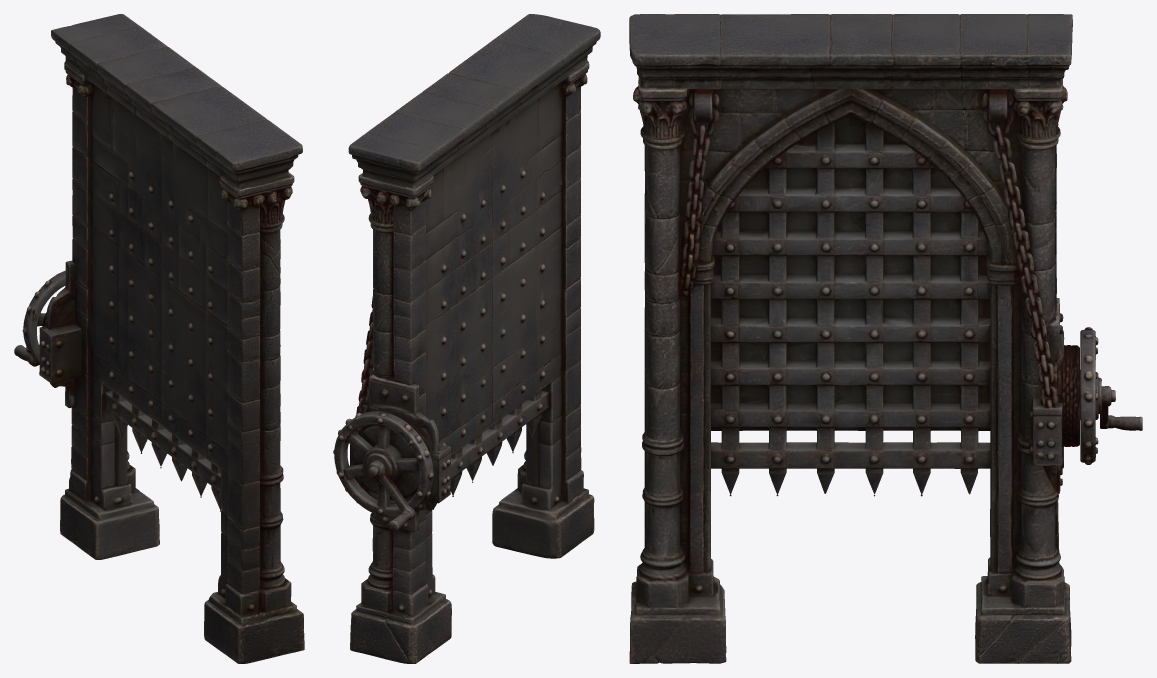
Rendered from raw_portcullis.glb.
3 renders of one model, left to right at view 1: azimuth 30°, elevation 25°; view 2: azimuth 150°, elevation 25°; view 3: azimuth 270°, elevation 25°, orthographic. The views are drawn at different scales.
Parts seen in each view (by area): view 1: portcullis; view 2: portcullis; view 3: portcullis.
Part boxes in pixels (bbox=[...]): portcullis: bbox=[14, 14, 304, 663]; portcullis: bbox=[333, 14, 600, 663]; portcullis: bbox=[629, 14, 1142, 663].
Bounding box in the file's own units: 0.2065 × 1 × 0.7643.
1 material, 1 textured.
